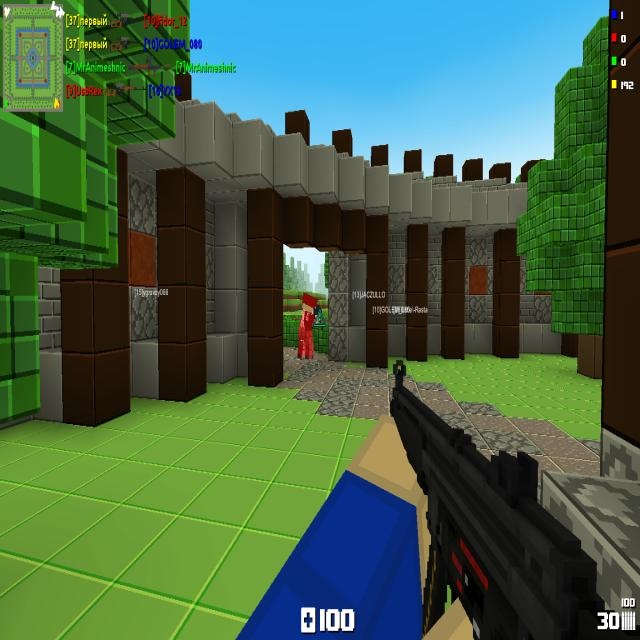enemy: (296, 292, 319, 359)
